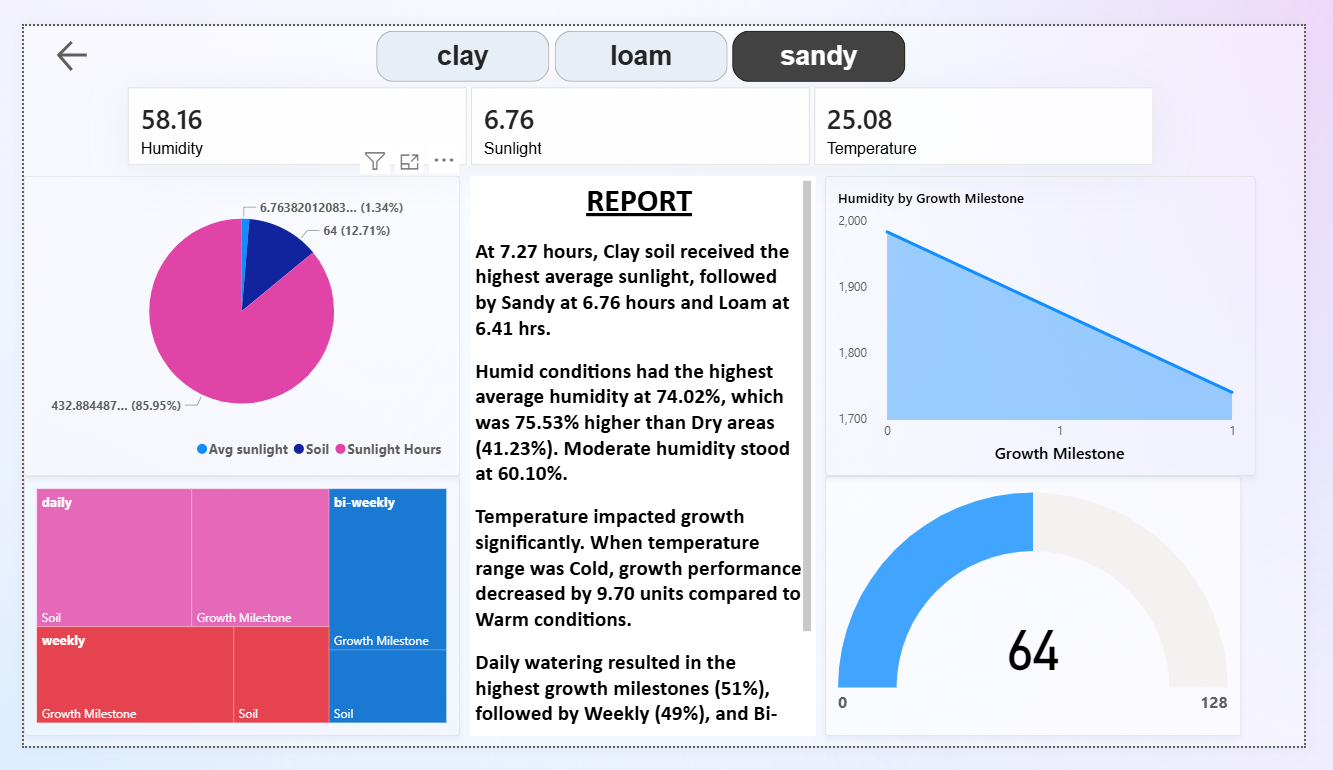

The dashboard page shown, as its layout file describes it:
{"tool":"powerbi","page":{"name":"Page 2","canvas":[1280,720],"ordinal":1},"visuals":[{"type":"cardVisual","fields":{"Data":["Temperature.Avg_humidity","Temperature.Avg_sunlight","Temperature.Avg_temperature"]},"box":[104.3,61.4,1025.7,78.6],"z":0},{"type":"pieChart","fields":{"Y":["Temperature.Avg_sunlight","CountNonNull(Temperature.Soil_Type)","Sum(Temperature.Sunlight_Hours)"]},"box":[0,150,435.7,300],"z":1000},{"type":"advancedSlicerVisual","fields":{"Values":["soil.Soil_Type"]},"box":[327.1,0,580,61.4],"z":2000},{"type":"gauge","fields":{"Y":["growth.Total_Growth"]},"box":[801.4,450,415.7,260],"z":3000},{"type":"treemap","fields":{"Values":["CountNonNull(Water_Frequency.Soil_Type)","Sum(growth.Growth_Milestone)"],"Group":["Water_Frequency.Water_Frequency"]},"box":[0,450,435.7,260],"z":4000},{"type":"stackedAreaChart","fields":{"Category":["growth.Growth_Milestone"],"Y":["Sum(growth.Humidity)"]},"box":[801.4,150,430,300],"z":5000},{"type":"textbox","box":[445.7,150,345.7,560],"z":6000},{"type":"actionButton","box":[28.3,10,100,40],"z":7000}]}

Visuals, with their boxes in screenshot pixels (x1, y1, x2, y2), scaled from the page's 1280x720 canvas onto the 1333x770 screenshot:
cardVisual - Temperature.Avg_humidity x Temperature.Avg_sunlight: bbox=(109, 66, 1177, 150)
pieChart - Temperature.Avg_sunlight x CountNonNull(Temperature.Soil_Type): bbox=(0, 160, 454, 481)
advancedSlicerVisual - soil.Soil_Type: bbox=(341, 0, 945, 66)
gauge - growth.Total_Growth: bbox=(835, 481, 1267, 759)
treemap - CountNonNull(Water_Frequency.Soil_Type) x Sum(growth.Growth_Milestone): bbox=(0, 481, 454, 759)
stackedAreaChart - growth.Growth_Milestone x Sum(growth.Humidity): bbox=(835, 160, 1282, 481)
textbox: bbox=(464, 160, 824, 759)
actionButton: bbox=(29, 11, 134, 53)
